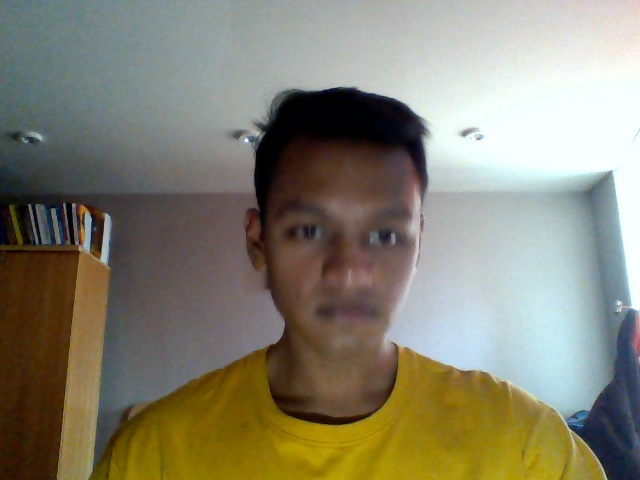no_mask: (266, 251, 421, 359)
